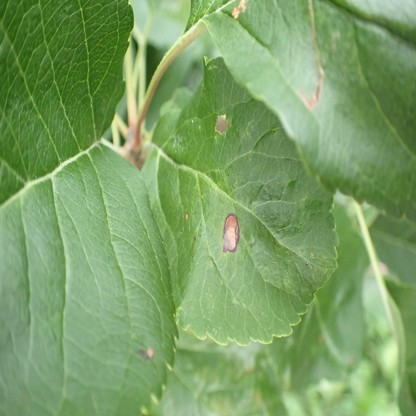frogeye_leaf_spot: (222, 212, 240, 252), (233, 1, 247, 19), (136, 346, 153, 359), (185, 214, 188, 219)
